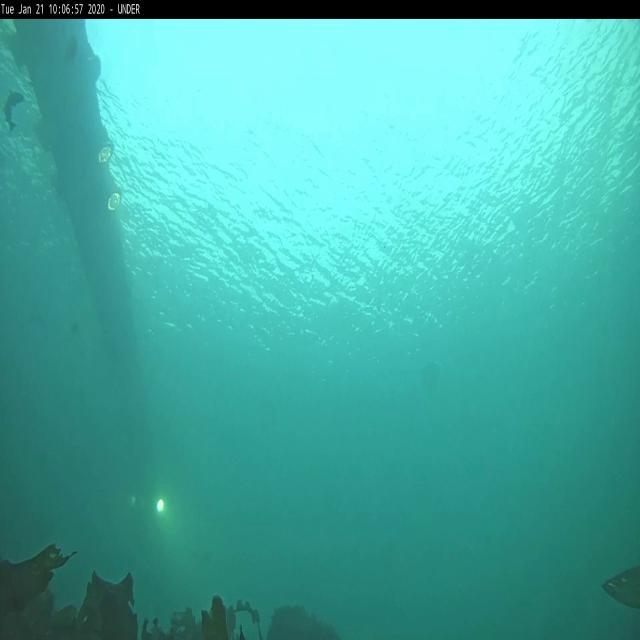fish: (600, 558, 638, 610), (4, 88, 24, 132)
